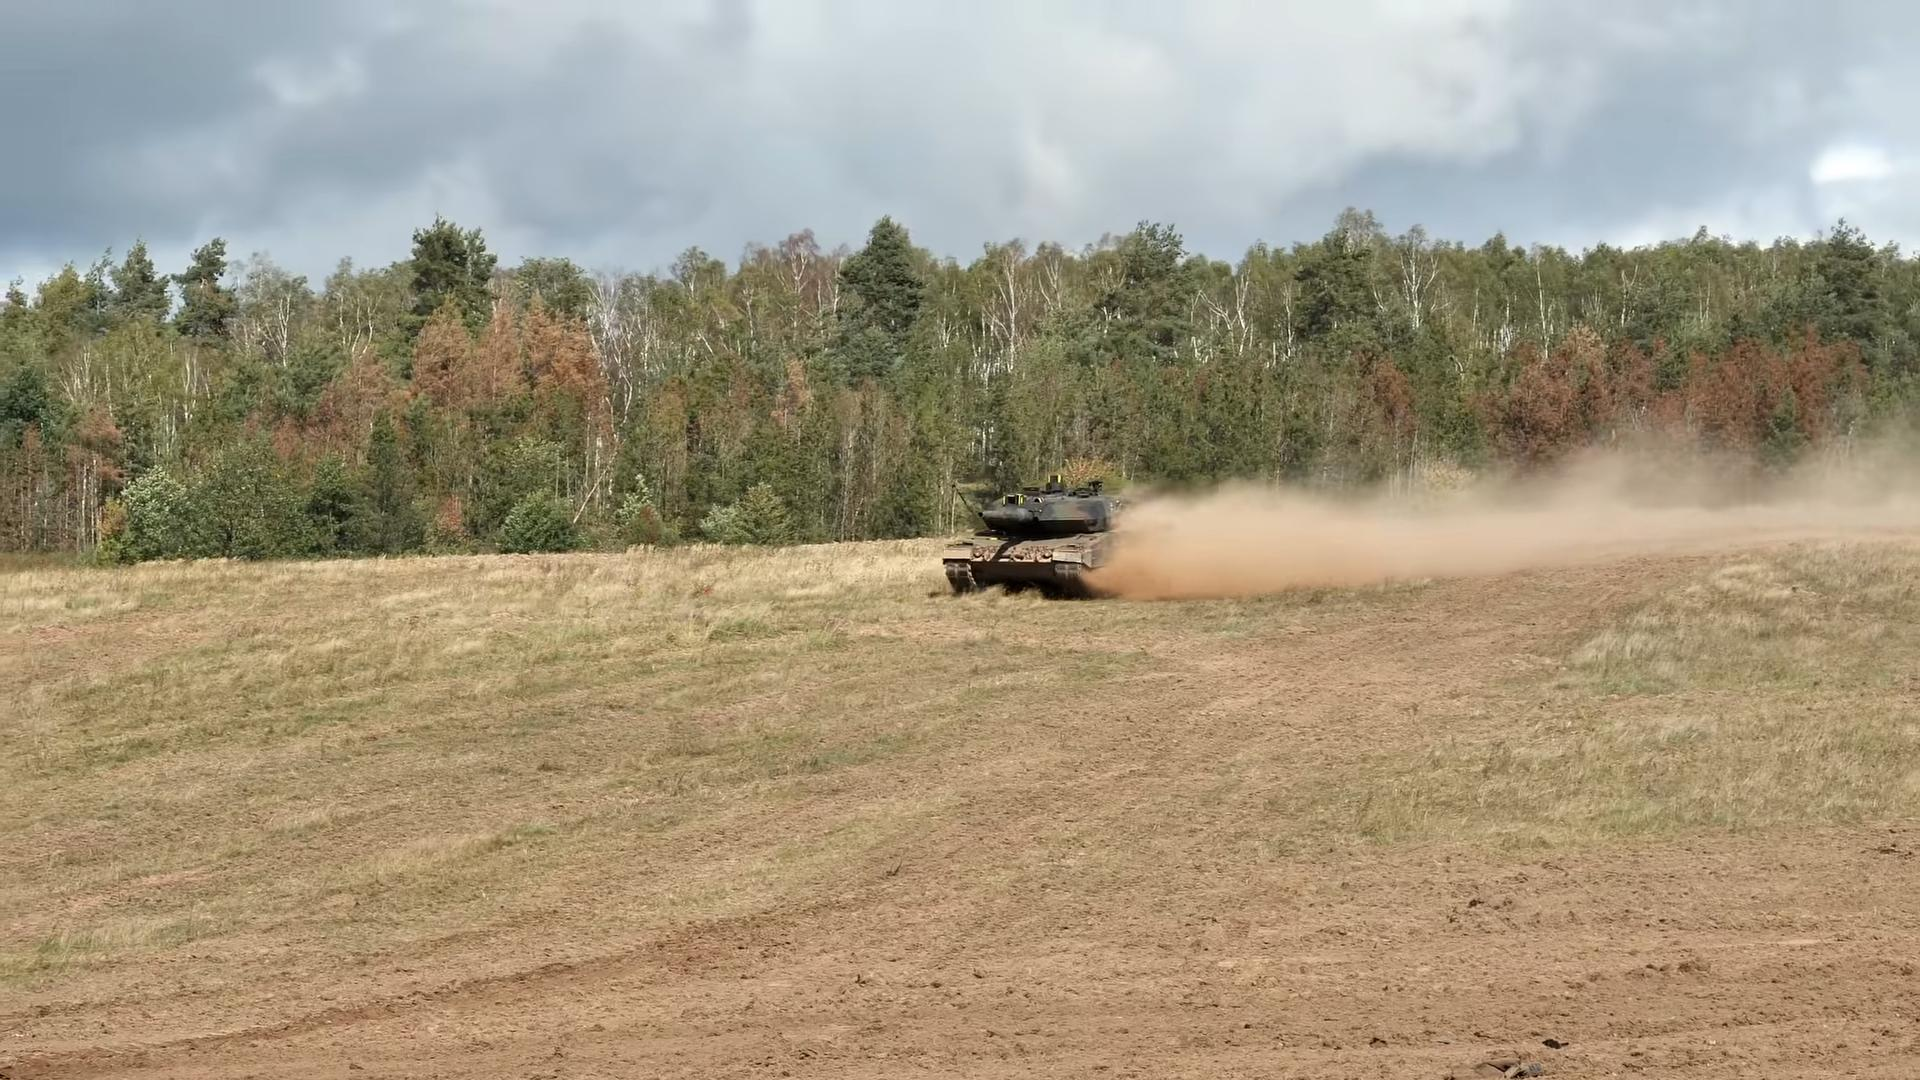tank: (943, 473, 1127, 599)
